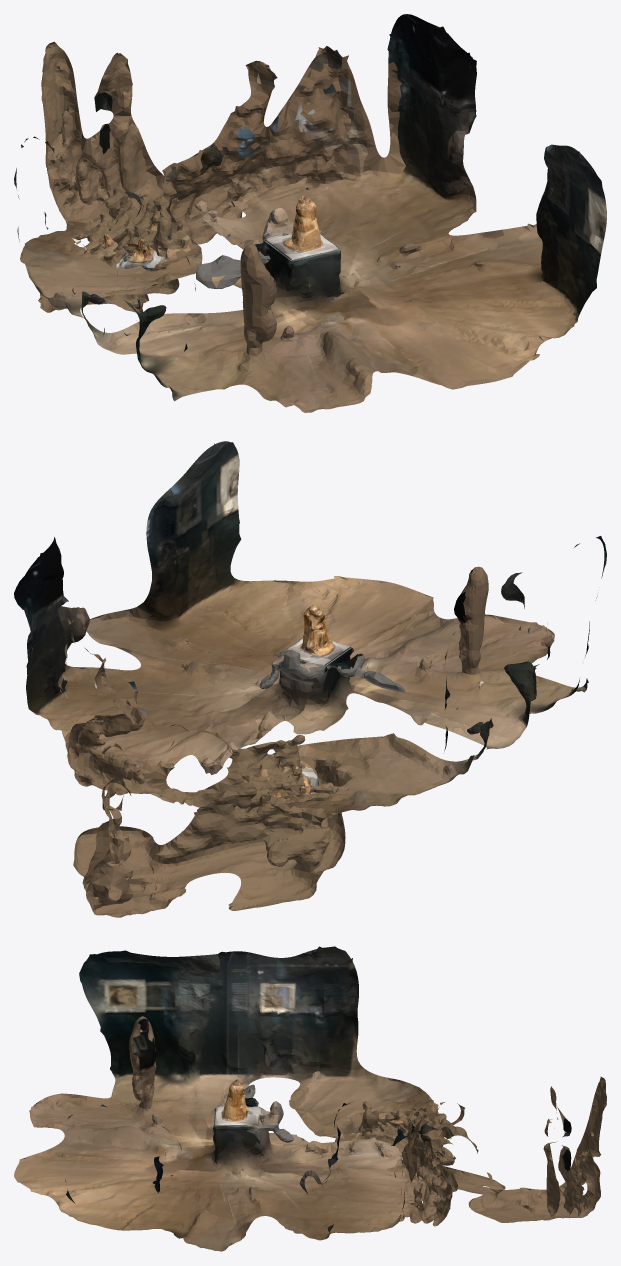
The picture shows the model from 3 angles, top to bottom: view 1: azimuth 30°, elevation 25°; view 2: azimuth 150°, elevation 25°; view 3: azimuth 270°, elevation 25°; orthographic projection. The views are drawn at different scales.
Bounding box in the file's own units: 7.84 × 4.02 × 10.8.
1 material, 1 textured.
